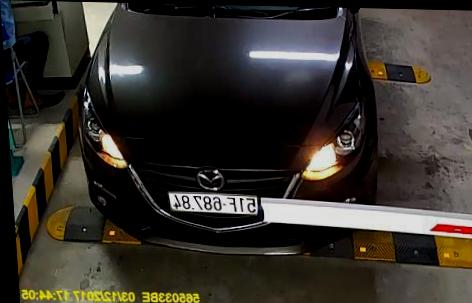License_Plate: (167, 190, 260, 215)
